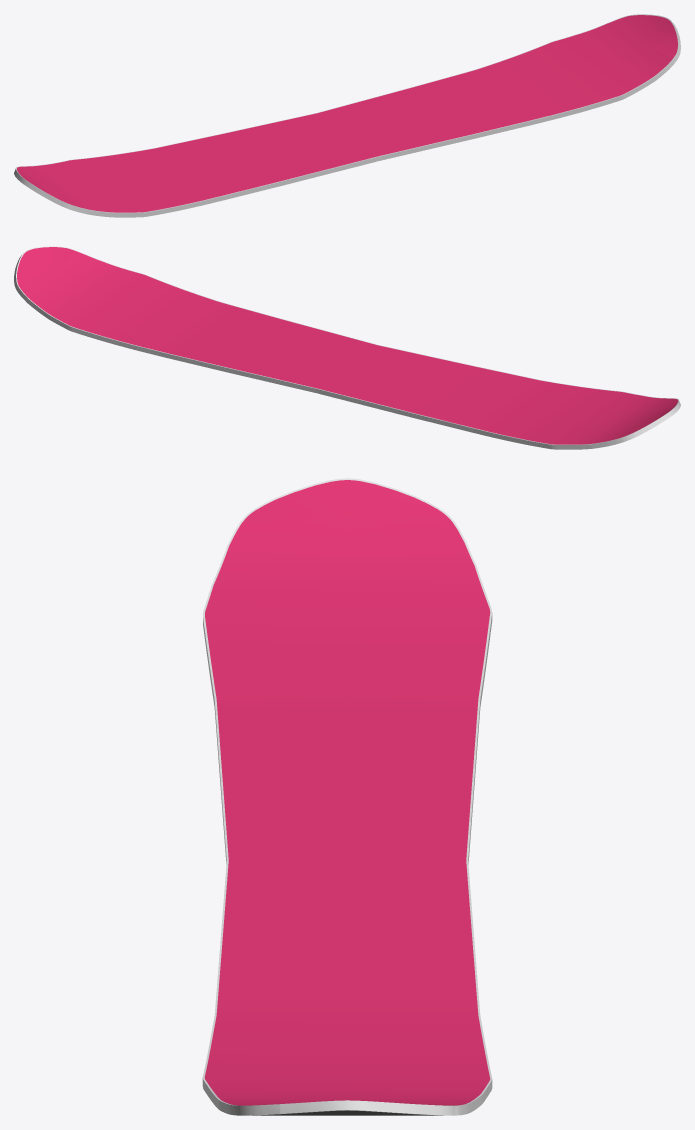
The model's file is board_twin-tip-2_rocker.gltf.
3 renders of one model, top to bottom at view 1: azimuth 30°, elevation 25°; view 2: azimuth 150°, elevation 25°; view 3: azimuth 270°, elevation 25°, orthographic. The views are drawn at different scales.
Visible parts, largest first — view 1: board-top, board-edge; view 2: board-top, board-edge; view 3: board-top, board-edge.
Part boxes in pixels (box(x1,y1,x2,y2)): board-top: box(17, 15, 677, 212); board-edge: box(14, 14, 680, 217); board-top: box(17, 247, 677, 444); board-edge: box(14, 246, 680, 449); board-top: box(204, 480, 490, 1105); board-edge: box(202, 478, 492, 1115).
Size of the model in its own units: 1.51 by 0.0928 by 0.2923.
